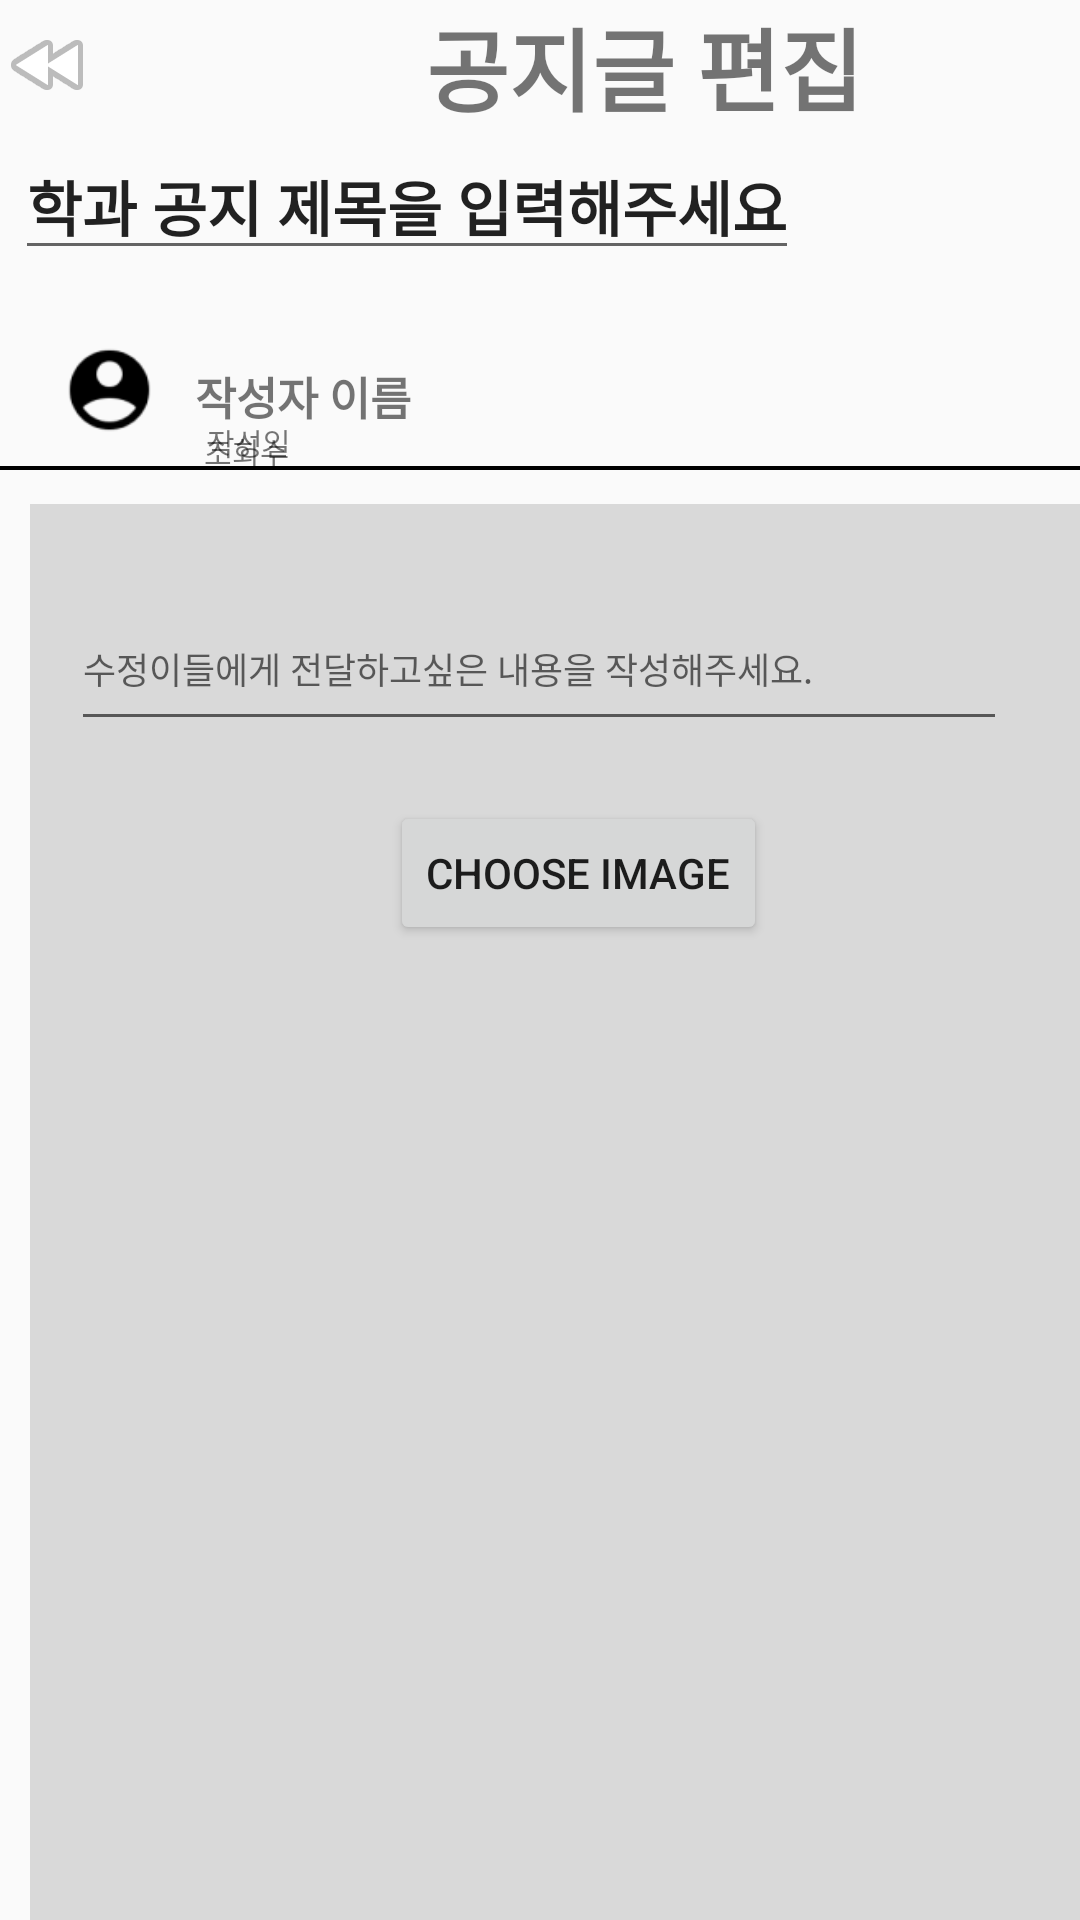

Point at icon controls on the screen. Image size 1080*1920, points as (x=x, y=y).
rew: (x=47, y=65)
user: (x=109, y=390)
